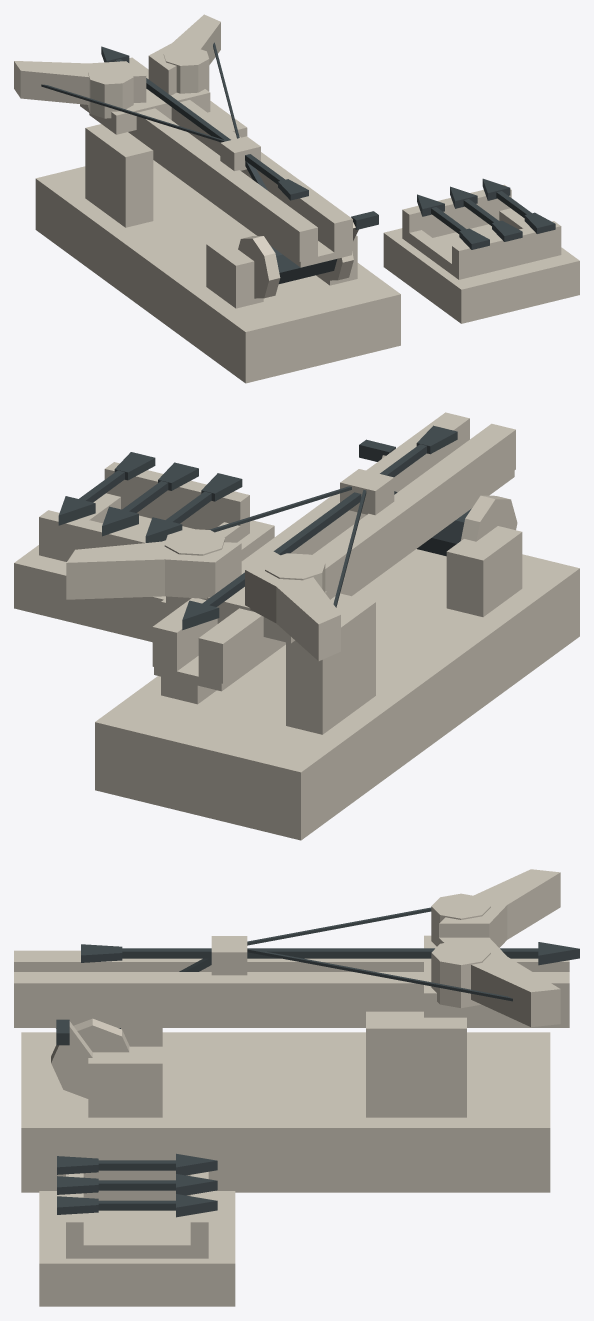
Rendered from great_ballista_b.glb.
3 renders of one model, top to bottom at view 1: azimuth 30°, elevation 25°; view 2: azimuth 150°, elevation 25°; view 3: azimuth 270°, elevation 25°, orthographic. The views are drawn at different scales.
Parts seen in each view (by area): view 1: BWAR_GB_B_Chassis, BWAR_GB_B_RackFoot, BWAR_GB_B_OpenTrack-1, BWAR_GB_B_Support-1, BWAR_GB_B_OpenTrack1, BWAR_GB_B_BowLimb-1, BWAR_GB_B_RackCradle-1.21, BWAR_GB_B_RearSupport-1, BWAR_GB_B_BowLimb1, BWAR_GB_B_RackCradle-0.79, BWAR_GB_B_LimbSocket-1, BWAR_GB_B_BowSaddle (+10 smaller); view 2: BWAR_GB_B_Chassis, BWAR_GB_B_OpenTrack-1, BWAR_GB_B_BowLimb1, BWAR_GB_B_Support-1, BWAR_GB_B_RackFoot, BWAR_GB_B_OpenTrack1, BWAR_GB_B_BowLimb-1, BWAR_GB_B_RearSupport-1, BWAR_GB_B_RackCradle-1.21, BWAR_GB_B_RackCradle-0.79, BWAR_GB_B_ChannelBed, BWAR_GB_B_ReadyBolt_shaft (+21 smaller); view 3: BWAR_GB_B_Chassis, BWAR_GB_B_OpenTrack1, BWAR_GB_B_RackFoot, BWAR_GB_B_Support1, BWAR_GB_B_OpenTrack-1, BWAR_GB_B_RearSupport1, BWAR_GB_B_BowLimb-1, BWAR_GB_B_BowLimb1, BWAR_GB_B_ReadyBolt_shaft, BWAR_GB_B_ChannelBed, BWAR_GB_B_LimbSocket1, BWAR_GB_B_RackSide1.22 (+22 smaller).
Boxes of the visible parts, x1,y1,x2,y2 form: BWAR_GB_B_Chassis: [35, 160, 400, 383]; BWAR_GB_B_RackFoot: [383, 224, 579, 323]; BWAR_GB_B_OpenTrack-1: [85, 104, 317, 261]; BWAR_GB_B_Support-1: [85, 124, 153, 227]; BWAR_GB_B_OpenTrack1: [129, 57, 352, 252]; BWAR_GB_B_BowLimb-1: [14, 61, 146, 104]; BWAR_GB_B_RackCradle-1.21: [452, 221, 561, 279]; BWAR_GB_B_RearSupport-1: [206, 237, 263, 308]; BWAR_GB_B_BowLimb1: [148, 14, 220, 95]; BWAR_GB_B_RackCradle-0.79: [402, 184, 511, 239]; BWAR_GB_B_LimbSocket-1: [88, 65, 133, 118]; BWAR_GB_B_BowSaddle: [89, 89, 210, 134]; BWAR_GB_B_Chassis: [95, 549, 579, 840]; BWAR_GB_B_OpenTrack-1: [198, 423, 515, 683]; BWAR_GB_B_BowLimb1: [66, 541, 241, 599]; BWAR_GB_B_Support-1: [286, 593, 375, 734]; BWAR_GB_B_RackFoot: [14, 515, 274, 642]; BWAR_GB_B_OpenTrack1: [152, 412, 469, 672]; BWAR_GB_B_BowLimb-1: [245, 550, 340, 661]; BWAR_GB_B_RearSupport-1: [446, 526, 522, 616]; BWAR_GB_B_RackCradle-1.21: [104, 462, 249, 539]; BWAR_GB_B_RackCradle-0.79: [39, 510, 165, 561]; BWAR_GB_B_ChannelBed: [154, 470, 514, 691]; BWAR_GB_B_ReadyBolt_shaft: [202, 444, 426, 606]; BWAR_GB_B_Chassis: [21, 1032, 550, 1192]; BWAR_GB_B_OpenTrack1: [14, 972, 569, 1020]; BWAR_GB_B_RackFoot: [39, 1191, 235, 1306]; BWAR_GB_B_Support1: [366, 1011, 466, 1117]; BWAR_GB_B_OpenTrack-1: [14, 950, 569, 971]; BWAR_GB_B_RearSupport1: [88, 1046, 162, 1117]; BWAR_GB_B_BowLimb-1: [439, 869, 560, 947]; BWAR_GB_B_BowLimb1: [439, 937, 560, 1027]; BWAR_GB_B_ReadyBolt_shaft: [122, 948, 538, 958]; BWAR_GB_B_ChannelBed: [14, 1021, 569, 1027]; BWAR_GB_B_LimbSocket1: [431, 940, 490, 1008]; BWAR_GB_B_RackSide1.22: [72, 1237, 202, 1258].
Size of the model in its own units: 1.78 by 0.8 by 1.9.
